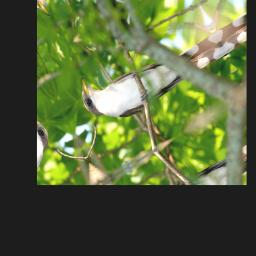Cuckoo: (71, 2, 228, 139)
